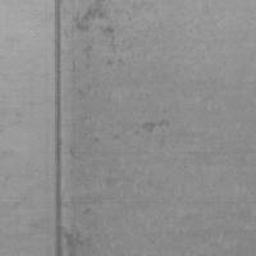Welding line: (52, 0, 63, 256)
